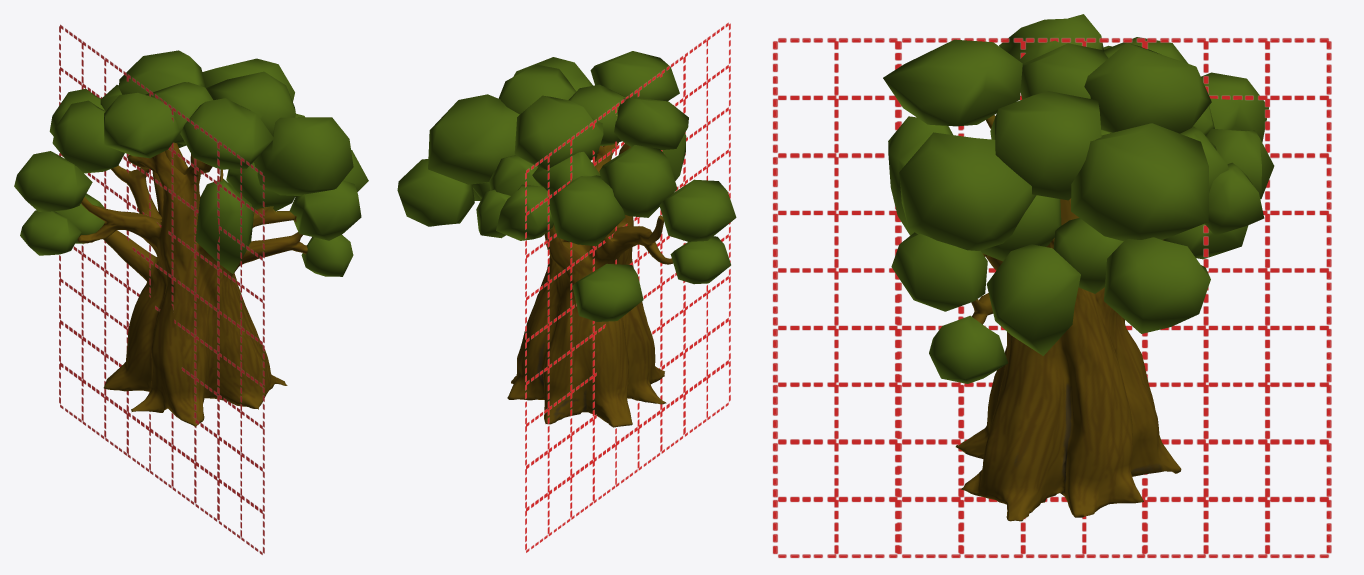
The model's file is baobá.glb.
3 renders of one model, left to right at view 1: azimuth 30°, elevation 25°; view 2: azimuth 150°, elevation 25°; view 3: azimuth 270°, elevation 25°, orthographic. The views are drawn at different scales.
Parts seen in each view (by area): view 1: arvorebaobá_low, Plano Eixo Horizontal; view 2: arvorebaobá_low, Plano Eixo Horizontal; view 3: arvorebaobá_low, Plano Eixo Horizontal.
Part boxes in pixels (x1,y1,x2,y2): arvorebaobá_low: (14,50,368,426); Plano Eixo Horizontal: (59,24,264,554); arvorebaobá_low: (397,51,736,427); Plano Eixo Horizontal: (525,22,730,552); arvorebaobá_low: (883,14,1274,521); Plano Eixo Horizontal: (772,38,1331,558).
Size of the model in its own units: 1.35 by 1.62 by 1.61.
2 materials, 2 textured.
